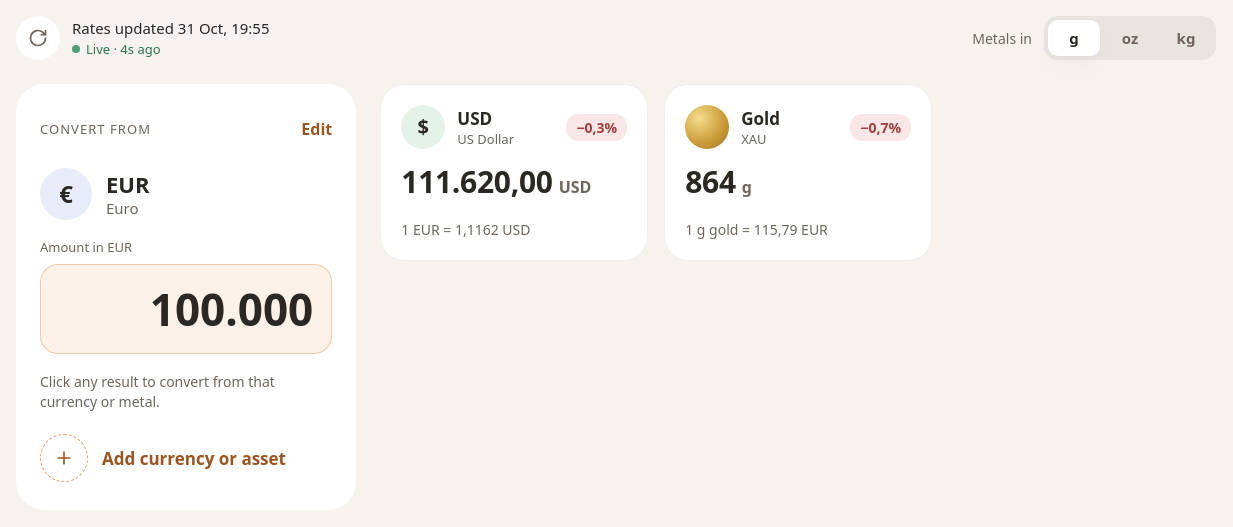
Test: App edit mode (SPEC §13 "Edit mode") › hides the remove buttons at two items and focuses Done
Click the button "Edit".
click(317, 129)  # box [289, 107, 344, 151]
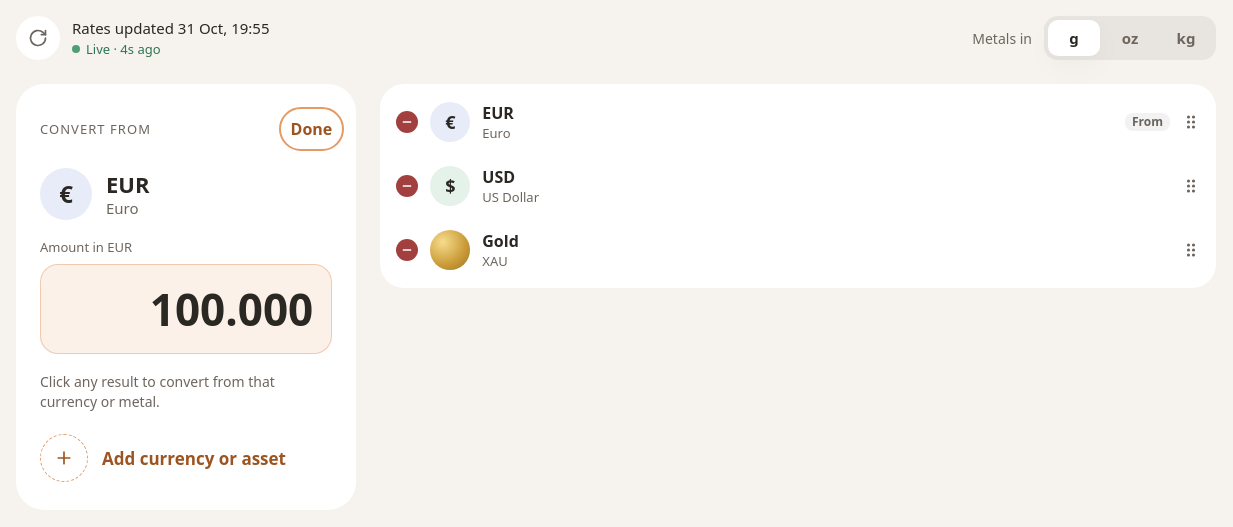
Click the button named "Remove Gold".
click(407, 250)  # box [385, 228, 429, 272]
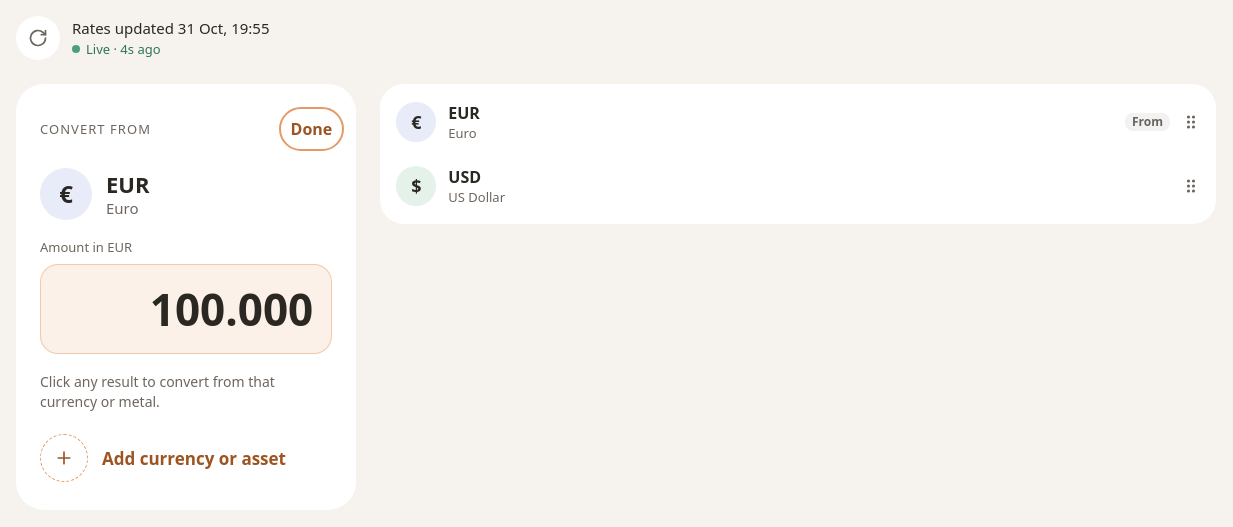
Check: the number of buttons named "Reorder " is 2, box [1169, 100, 1213, 144]; [1169, 164, 1213, 208]
